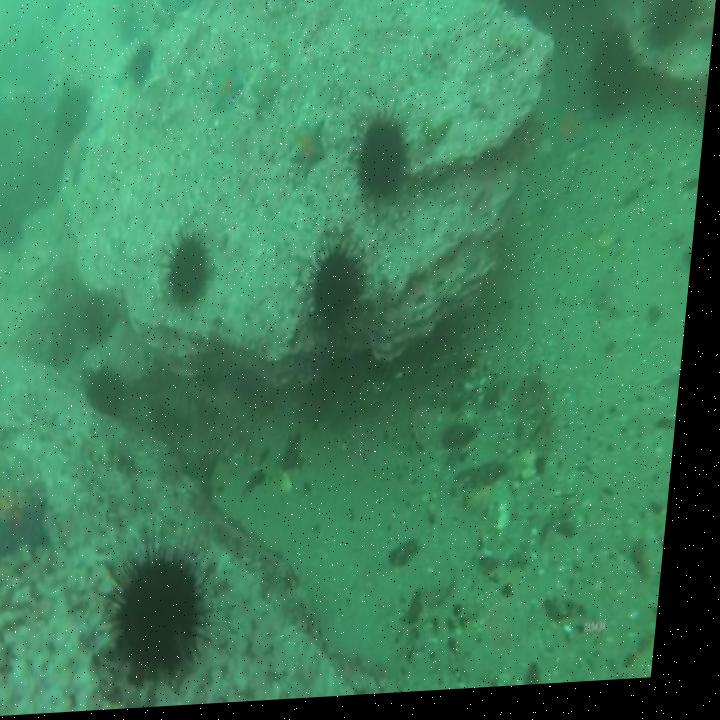echinus: (122, 557, 216, 682), (316, 247, 371, 325), (360, 126, 410, 199), (593, 38, 638, 117), (171, 242, 214, 309), (656, 0, 696, 53), (97, 366, 135, 421), (57, 84, 92, 143), (129, 44, 158, 84)
starfish: (0, 475, 68, 562), (555, 112, 601, 167), (294, 125, 326, 179), (211, 72, 244, 116)
